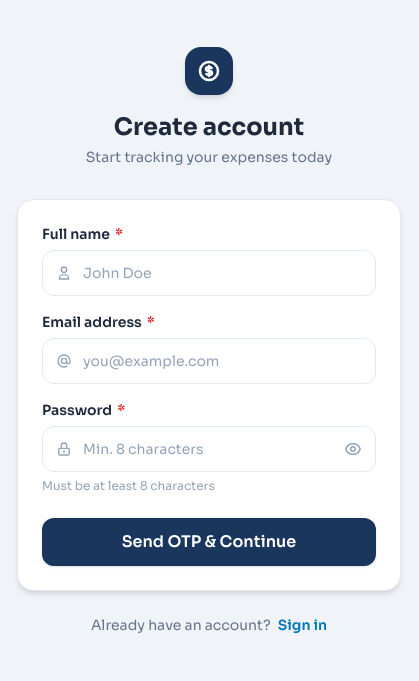
Test case: RegisterView › shows backend error message when register fails
This screenshot has width=419, height=681.
In the field with placeholder "John Doe": (209, 273) [42,250,376,296], type "Alice"
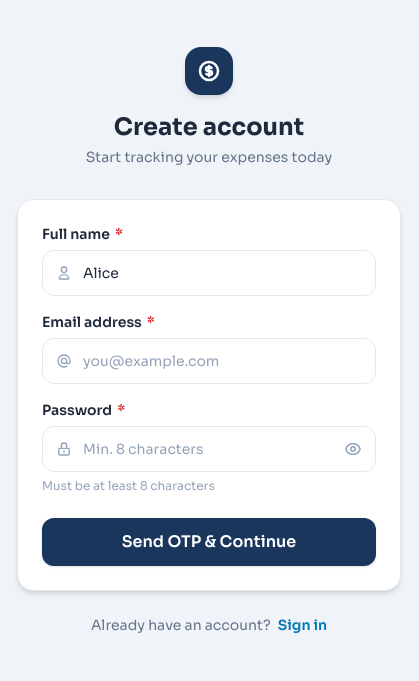
In the field with placeholder "you@example.com": (209, 361) [42,338,376,384], type "alice@test.com"
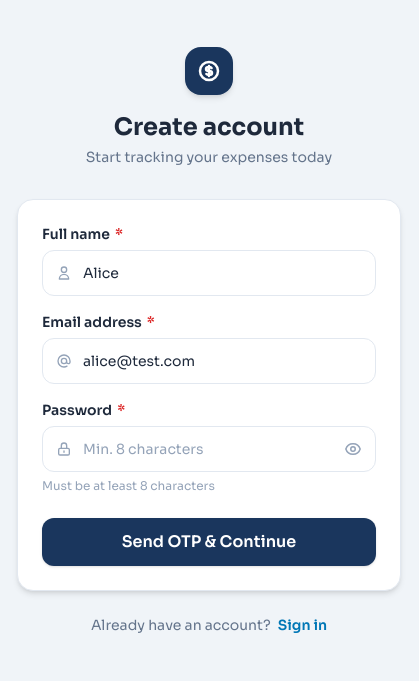
In the password field with placeholder "Min. 8 characters": (209, 449) [42,426,376,472], type "longpassword"
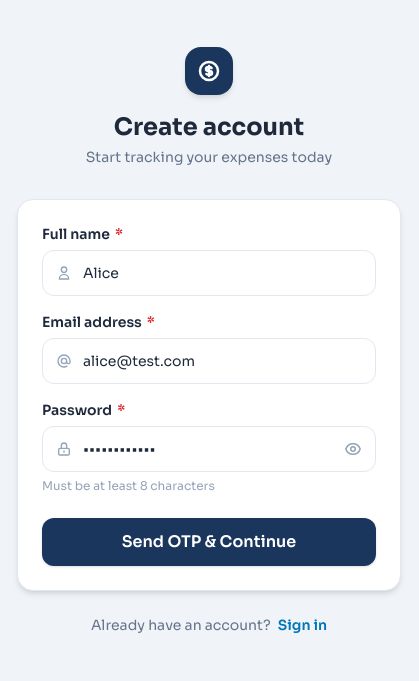
Submit the form, box [42,224,376,566]
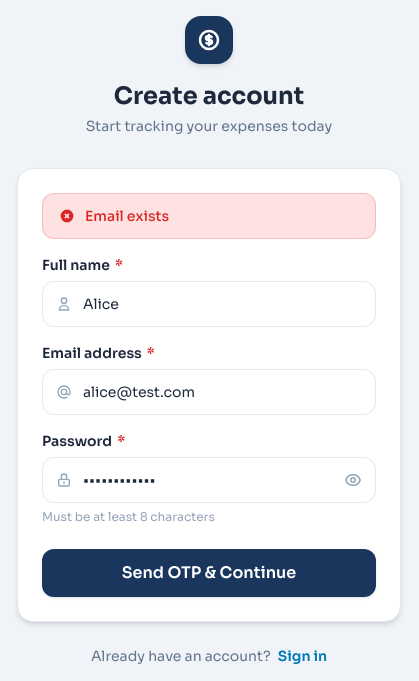
Now the text "Email exists" is shown, box [85,206,169,226]
